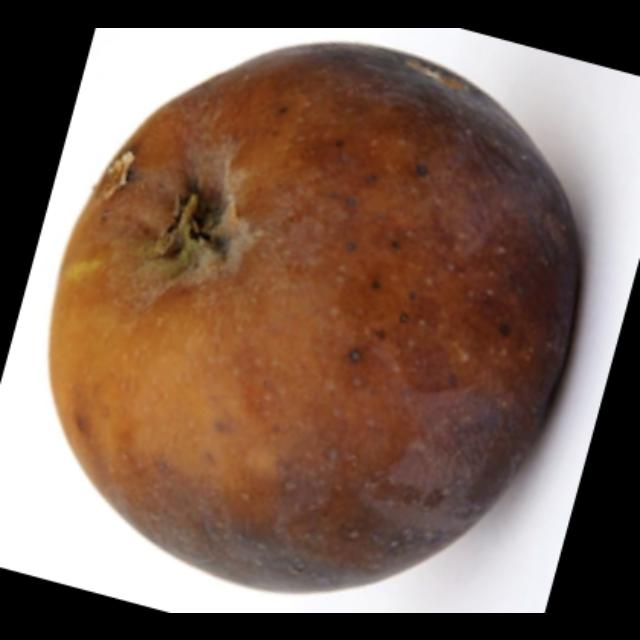Apel Tidak Segar: (32, 45, 592, 601)
